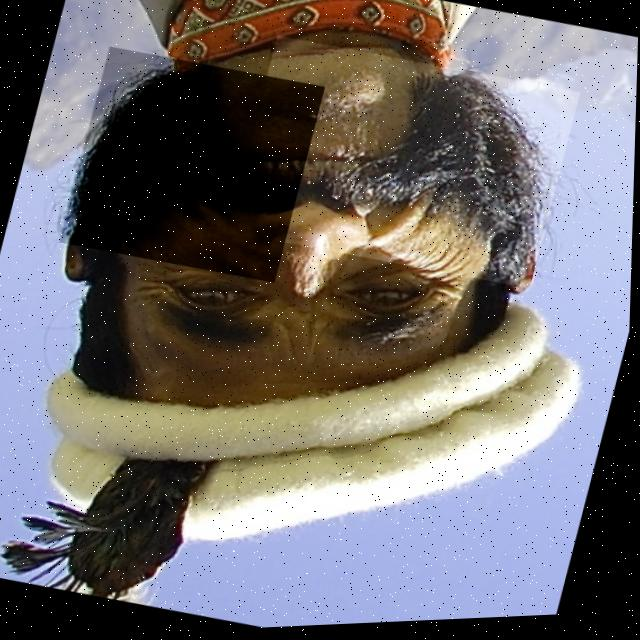beard: (245, 74, 549, 291), (71, 65, 296, 246)
